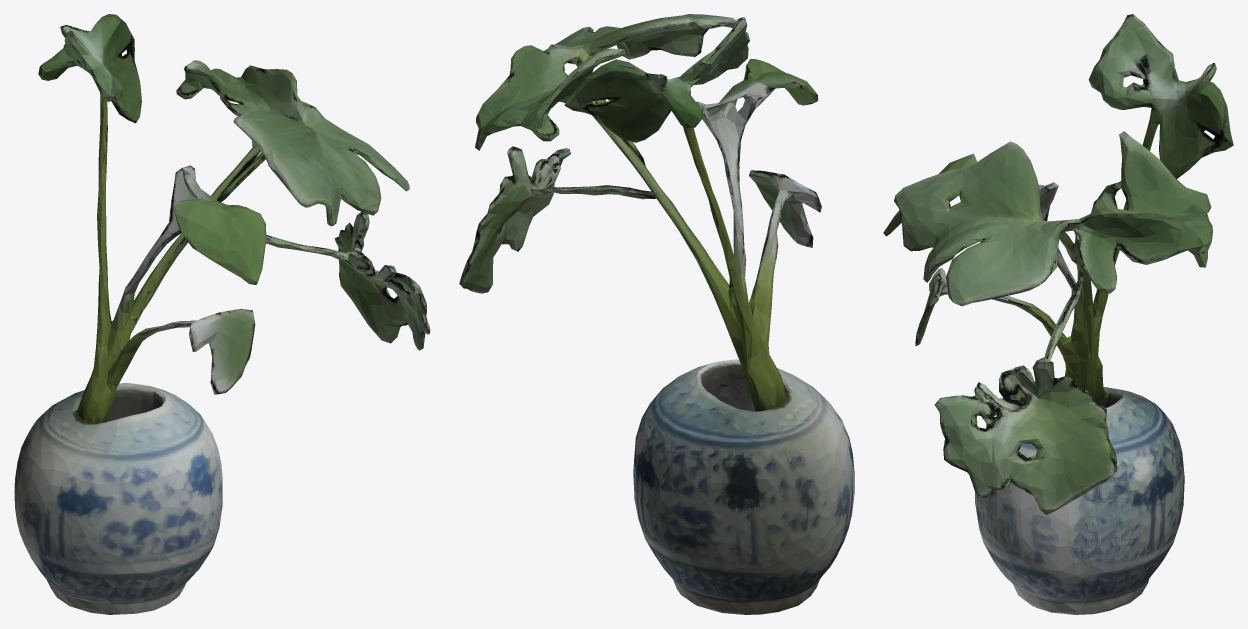
File: ast_694e0fa76046.glb
3 views of the same model, side by side, from view 1: azimuth 30°, elevation 25°; view 2: azimuth 150°, elevation 25°; view 3: azimuth 270°, elevation 25° (orthographic). The views are drawn at different scales.
Parts seen in each view (by area): view 1: geometry_0; view 2: geometry_0; view 3: geometry_0.
Part boxes in pixels (x1,y1,x2,y2): geometry_0: [14, 14, 430, 614]; geometry_0: [459, 14, 854, 614]; geometry_0: [883, 14, 1233, 614].
Bounding box in the file's own units: 0.4408 × 0.6543 × 0.3692.
Materials: 1 (1 with a texture image).
